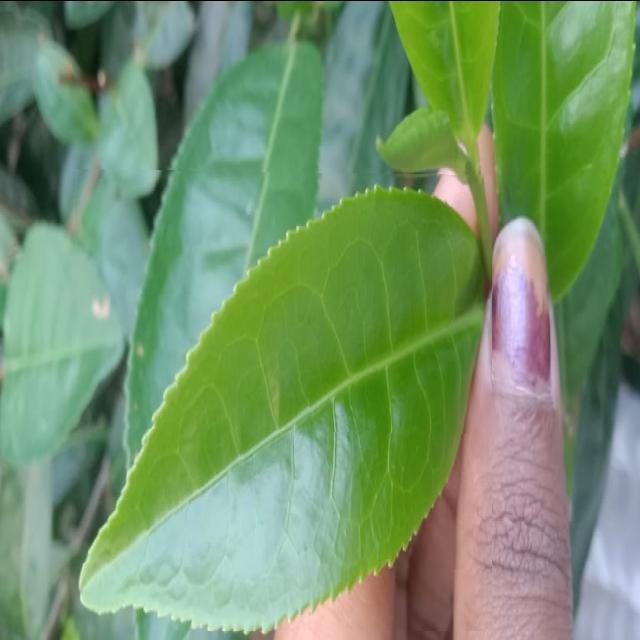Category B 2-4 days: (72, 168, 492, 630)
